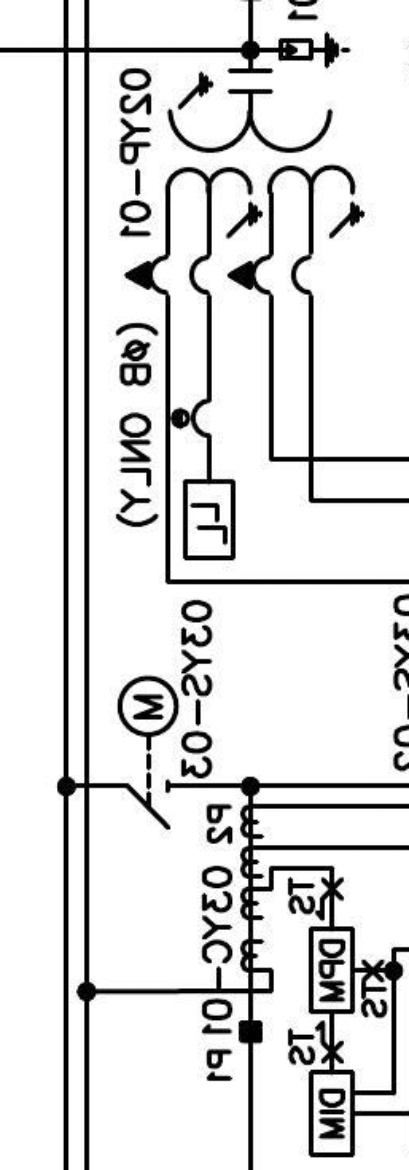115_1way_ds_w_motor: (115, 674, 180, 831)
115_cvt_1p: (123, 67, 366, 299)
115_la: (278, 31, 351, 69)
DIM: (308, 1069, 355, 1158)
DPM: (308, 925, 356, 1015)
LL: (183, 479, 236, 561)
